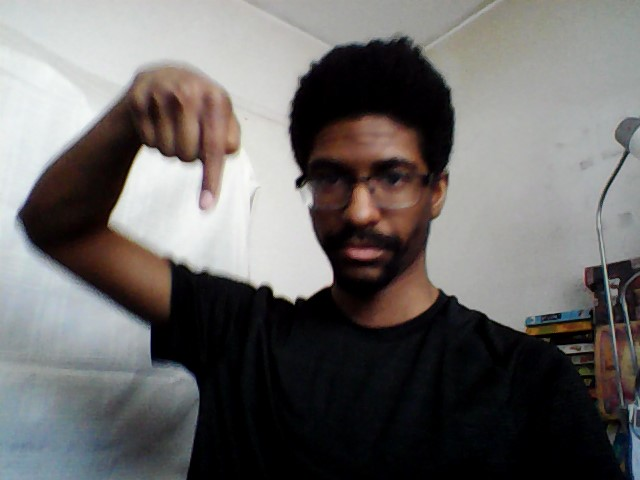q: (124, 57, 247, 216)
